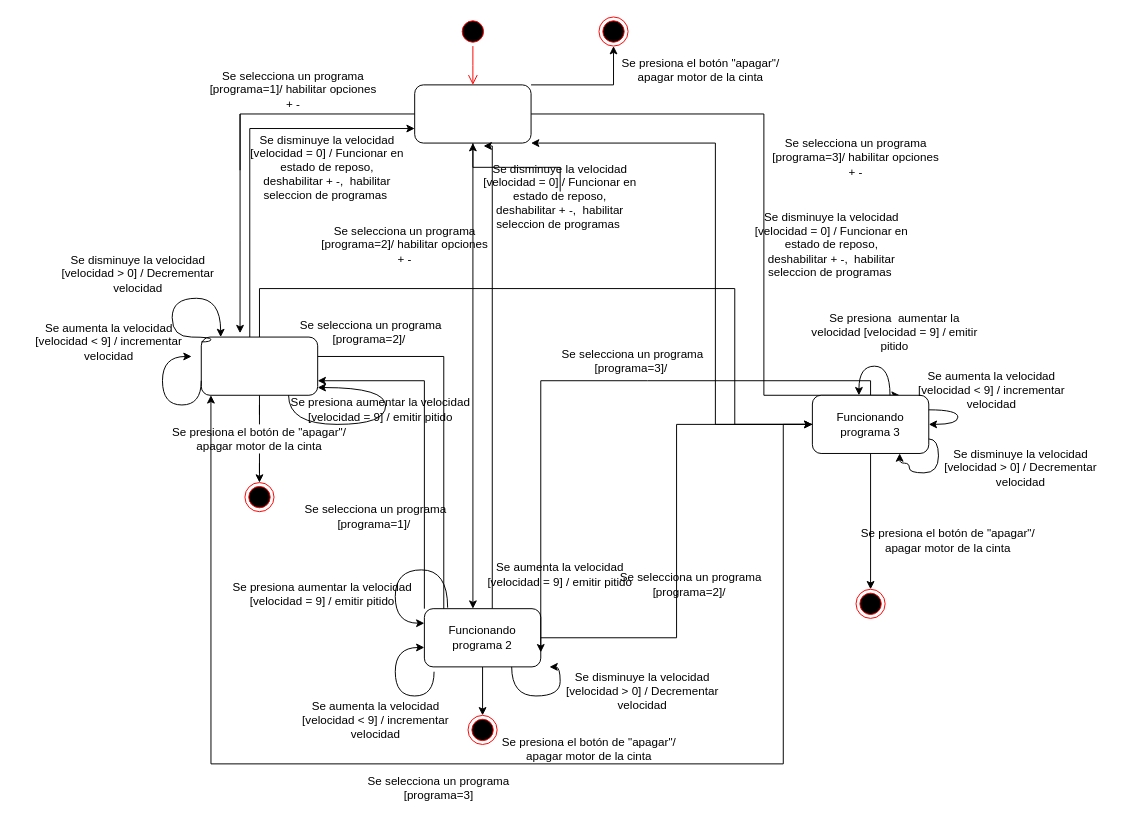
Image size: 1129x820. Some labels were removed from this diagram. The centre of each missing label's shape, as x and y in pixels:
"Funcionando programa 1" goes at [259,365].
"Reposando" goes at [472,113].
